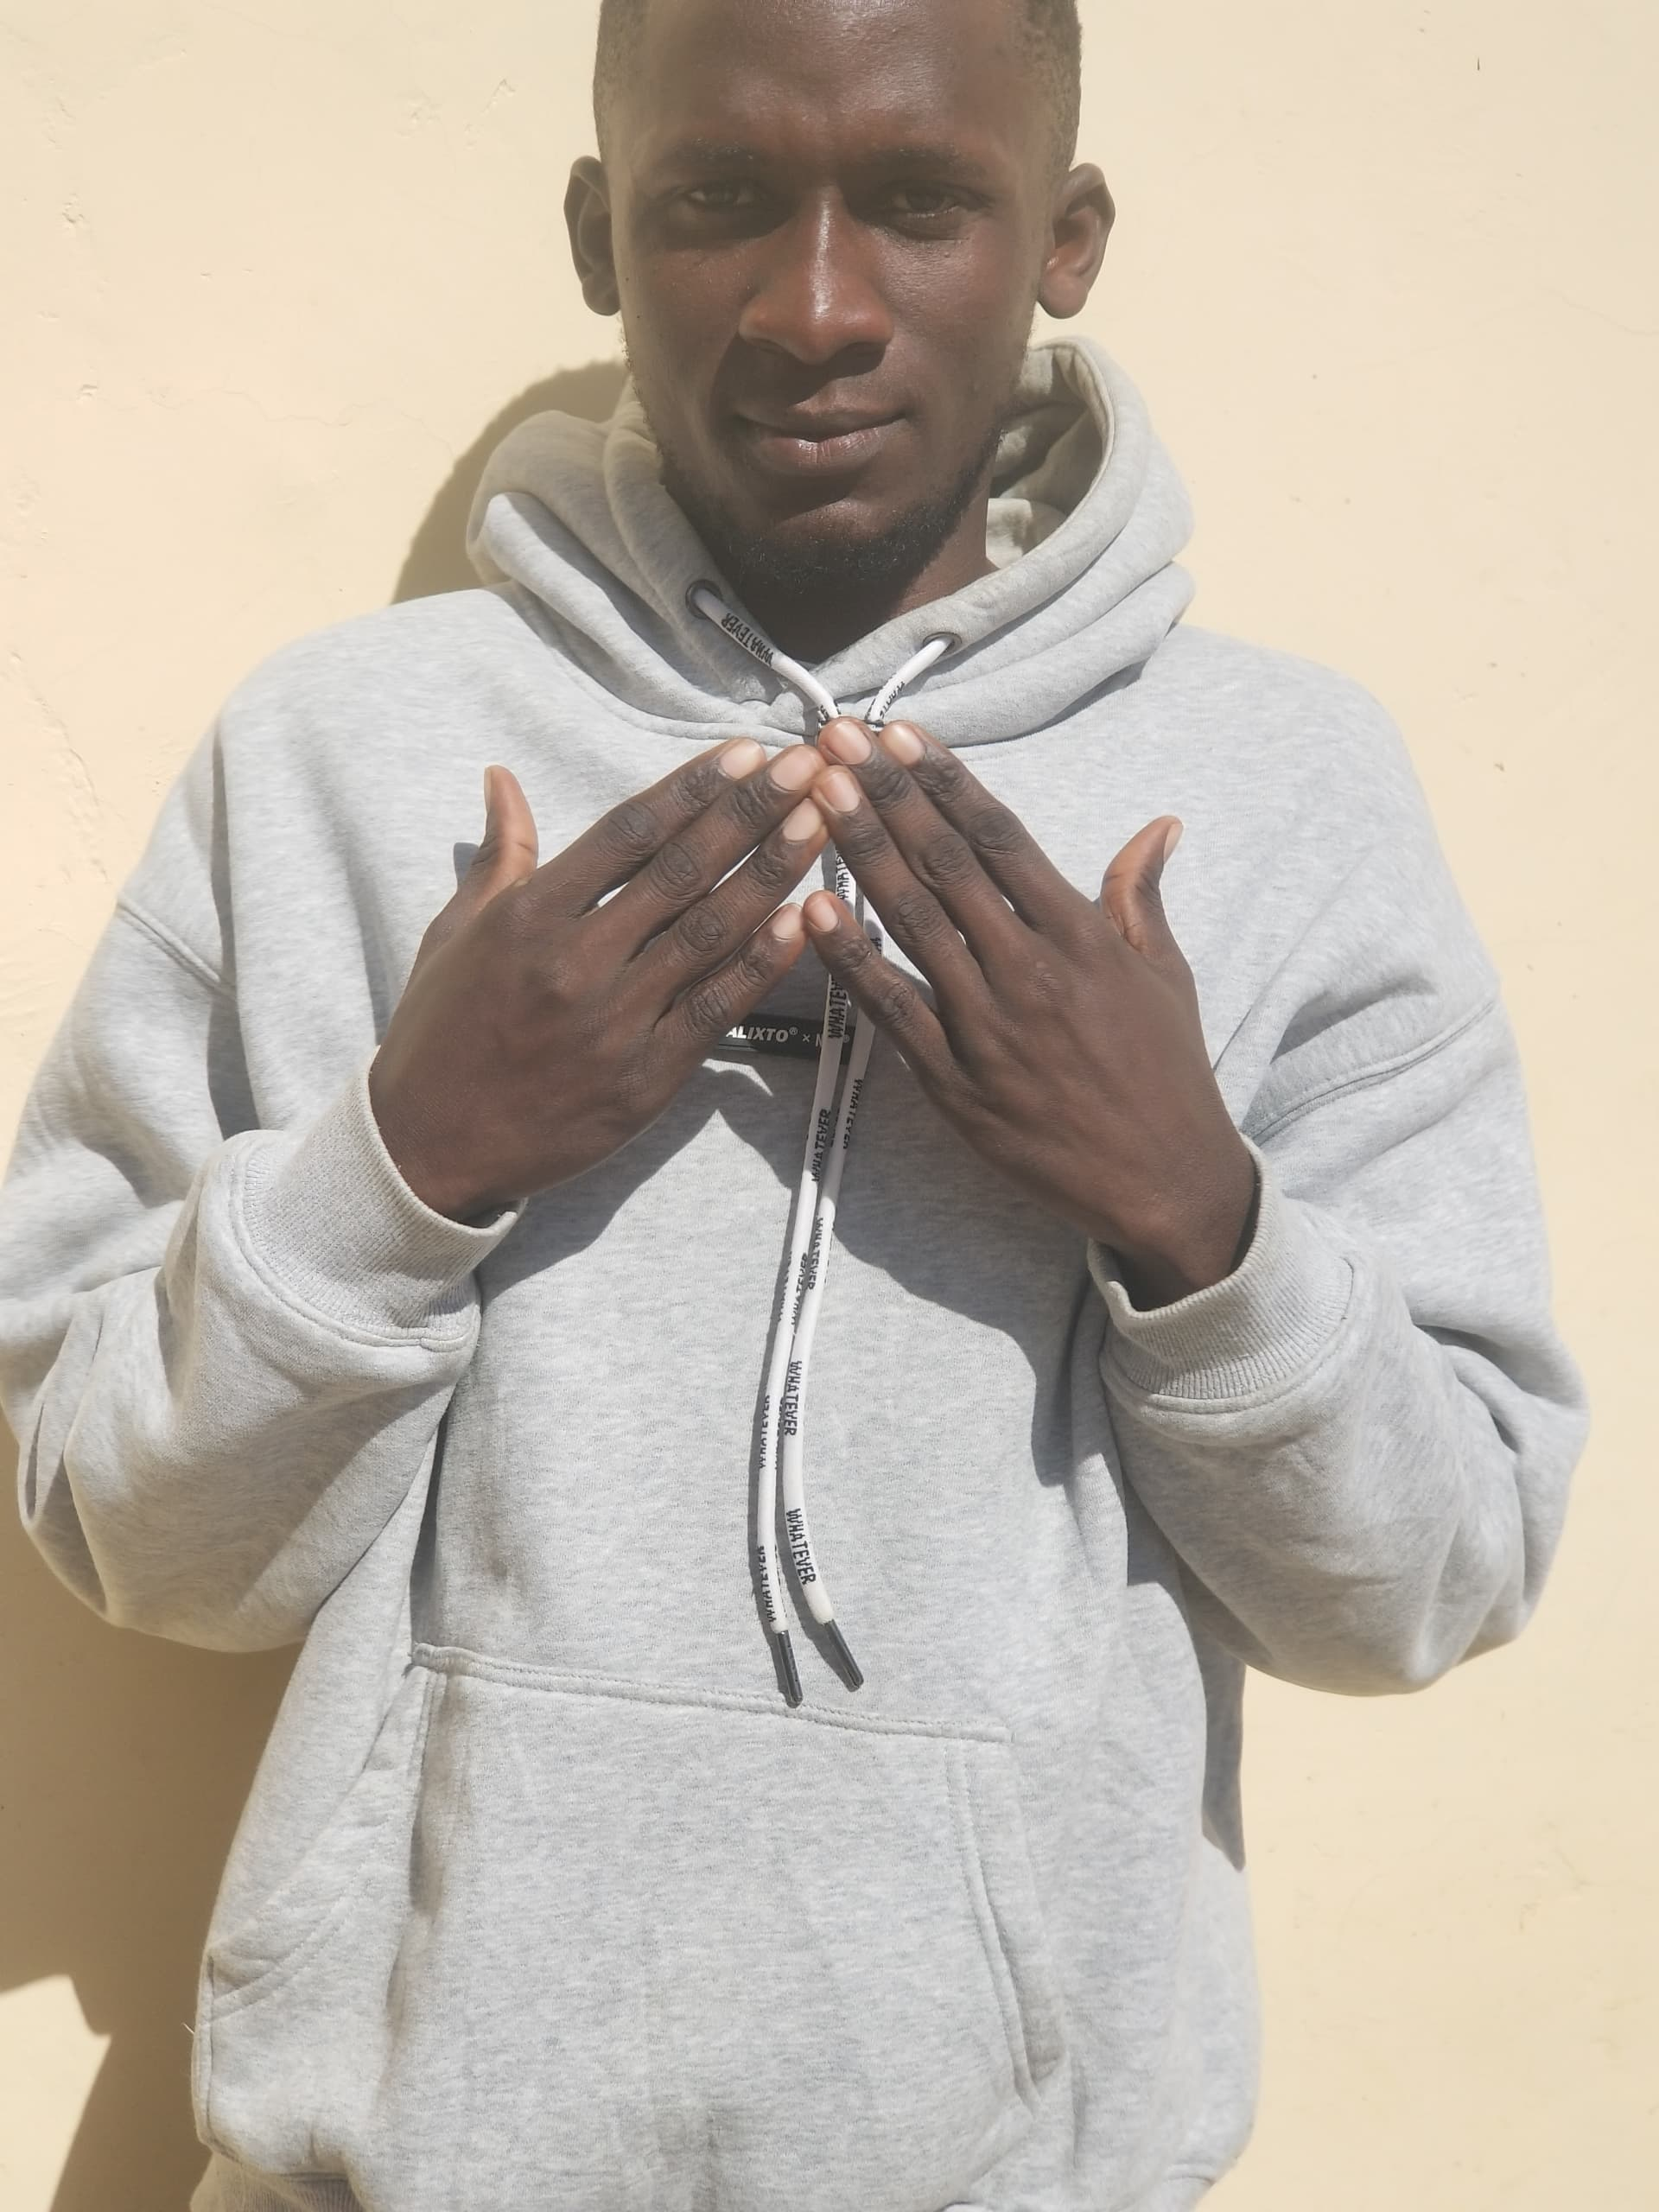thankyou: (345, 606, 1281, 1325)
